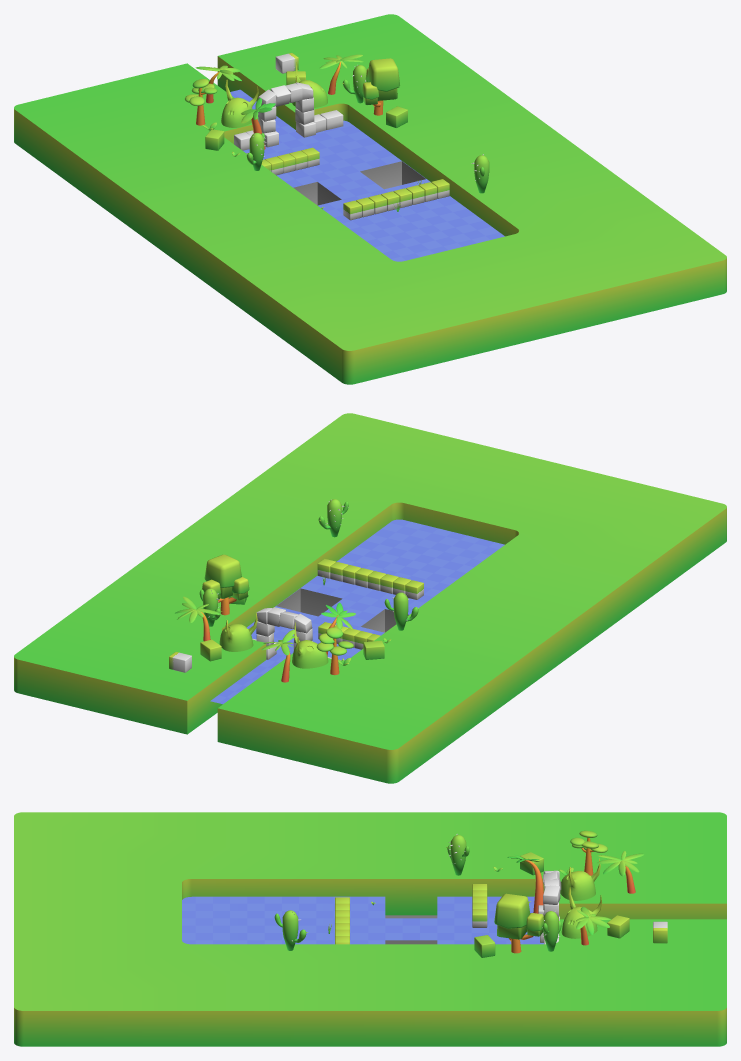
The model's file is Map_ demo.fbx.
3 views of the same model, one above another, from view 1: azimuth 30°, elevation 25°; view 2: azimuth 150°, elevation 25°; view 3: azimuth 270°, elevation 25° (orthographic). The views are drawn at different scales.
Visible parts, largest first — view 1: Plane, Plane.001, Cube.017, Cay 3.160, Cay 3.006, Cube.023, Cay 3.110; view 2: Plane, Plane.001, Cube.017, Cay 3.160, Cay 3.006, Cay 3.110, Cube.023, Cay 3.234, Cay 3.008; view 3: Plane, Plane.001, Cay 3.160, Cay 3.006, Cay 3.002, Cube.017, Cay 3.008, Cube.023, Cay 3.110, Cay 3.234, Cay 3.079, Cay 3.007 (+3 smaller).
Boxes of the visible parts, x1,y1,x2,y2 form: Plane: (14,14,726,384); Plane.001: (230,89,504,261); Cube.017: (343,179,449,220); Cay 3.160: (362,58,399,115); Cay 3.006: (221,62,327,127); Cube.023: (261,147,319,175); Cay 3.110: (185,79,217,125); Plane: (14,413,726,783); Plane.001: (210,519,504,704); Cube.017: (317,558,423,599); Cay 3.160: (202,554,249,615); Cay 3.006: (219,613,328,668); Cay 3.110: (316,627,353,675); Cube.023: (318,622,380,649); Cay 3.234: (384,592,418,630); Cay 3.008: (318,499,348,537); Plane: (14,812,726,1046); Plane.001: (182,896,543,944); Cay 3.160: (494,893,544,953); Cay 3.006: (560,858,602,938); Cay 3.002: (597,851,644,893); Cube.017: (335,897,349,944); Cay 3.008: (274,910,307,950); Cube.023: (472,884,487,927); Cay 3.110: (570,830,607,875); Cay 3.234: (446,834,469,875); Cay 3.079: (576,906,610,945); Cay 3.007: (542,910,561,951).
Size of the model in its own units: 4967 by 1324 by 7529.
